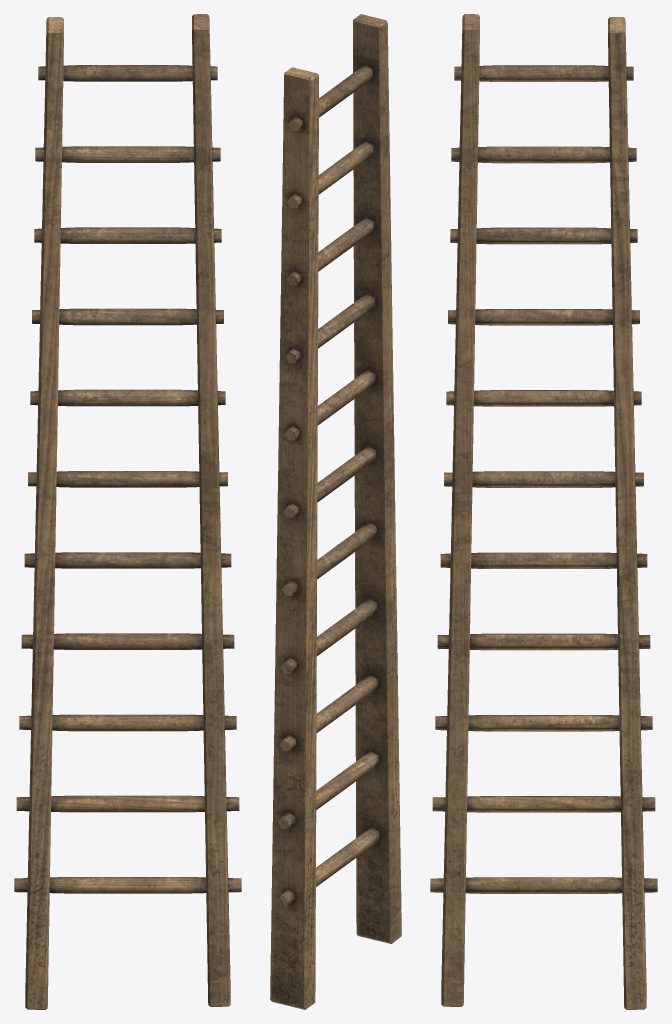
File: ladder-wooden.glb
The picture shows the model from 3 angles, left to right: view 1: azimuth 90°, elevation 25°; view 2: azimuth 150°, elevation 25°; view 3: azimuth 270°, elevation 25°; orthographic projection. The views are drawn at different scales.
Parts seen in each view (by area): view 1: g; view 2: g; view 3: g.
Part boxes in pixels (x1,y1,x2,y2): g: (14, 14, 241, 1009); g: (270, 14, 401, 1009); g: (430, 14, 657, 1009).
Size of the model in its own units: 0.083 by 2 by 0.4199.
Materials: 1 (1 with a texture image).
